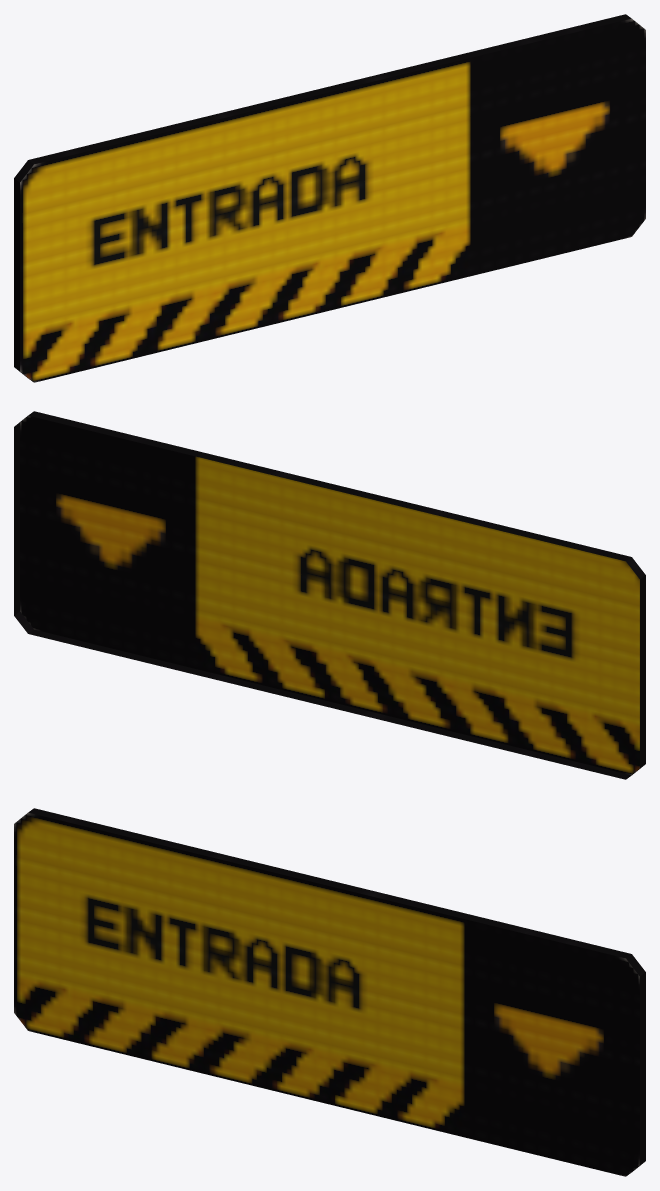
File: SM_PROP_SIGN_WALL_04.fbx
3 views of the same model, one above another, from view 1: azimuth 30°, elevation 25°; view 2: azimuth 150°, elevation 25°; view 3: azimuth 330°, elevation 25° (orthographic).
Visible parts, largest first — view 1: SM_PROP_SIGN_WALL_04; view 2: SM_PROP_SIGN_WALL_04; view 3: SM_PROP_SIGN_WALL_04.
Part boxes in pixels (box(x1,y1,x2,y2)): SM_PROP_SIGN_WALL_04: box(14, 14, 645, 382); SM_PROP_SIGN_WALL_04: box(14, 411, 645, 779); SM_PROP_SIGN_WALL_04: box(14, 808, 645, 1176).
Size of the model in its own units: 1.5 by 0.5 by 0.025.
